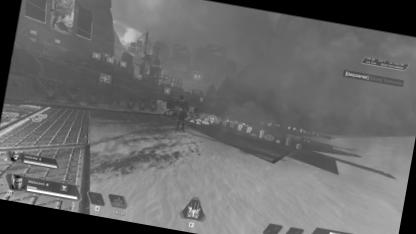Target: (174, 94, 190, 131)
